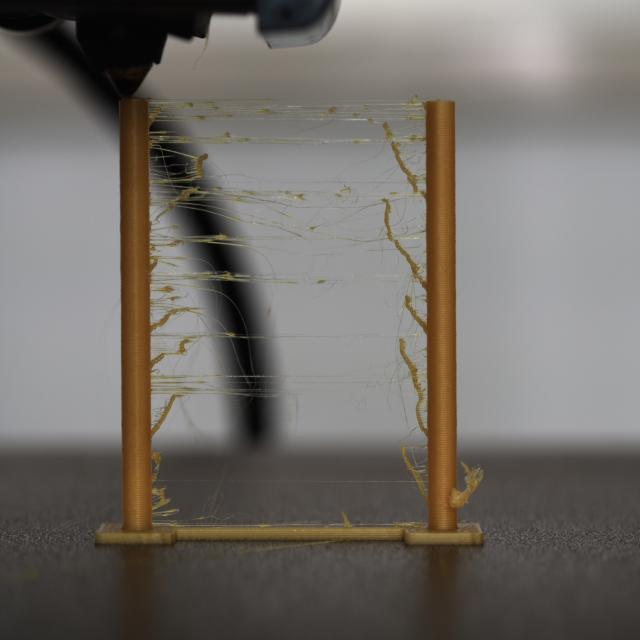Warping: (150, 101, 425, 447)
